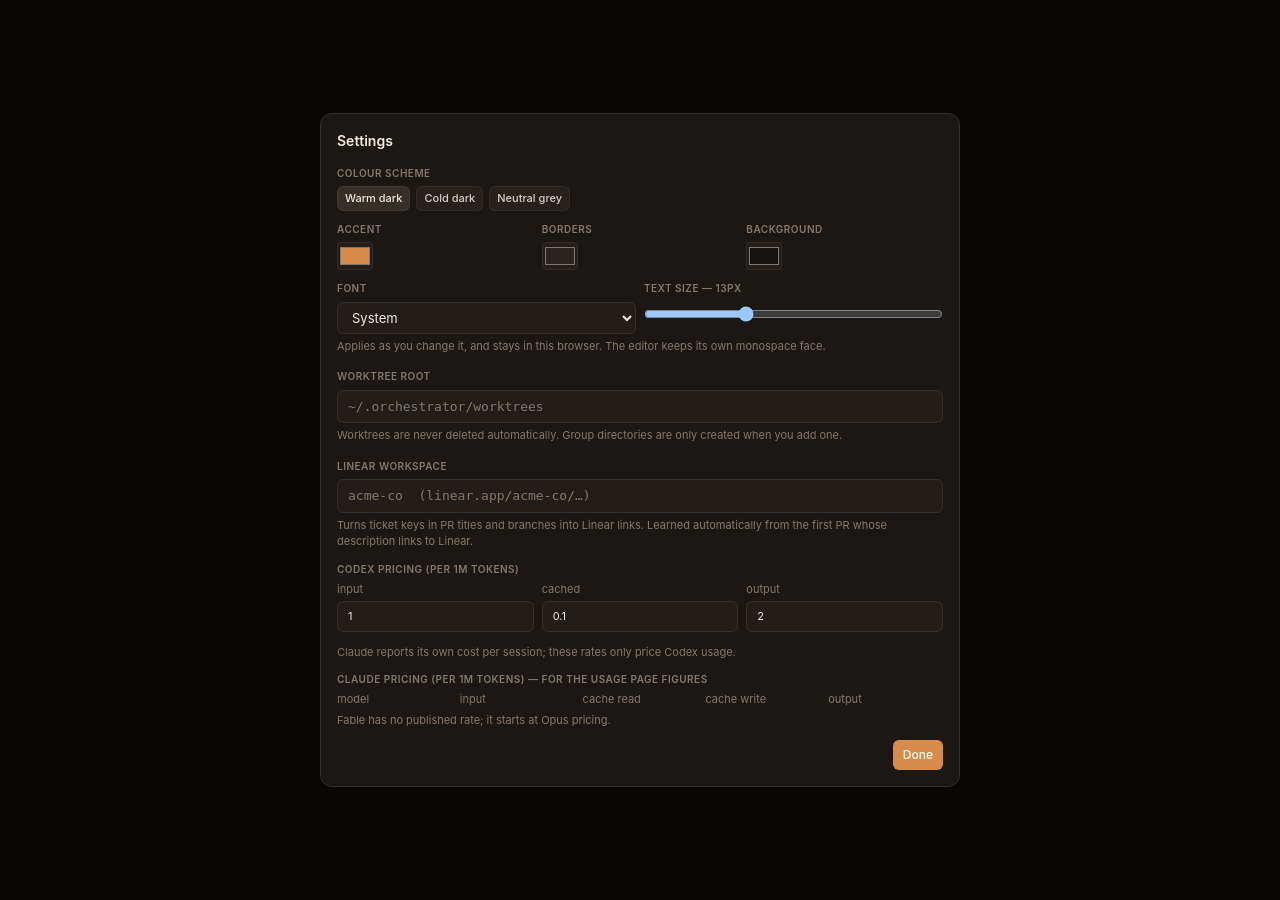
appearance settings › changes the font and the text size
The width and height of the screenshot is (1280, 900).
Expected: the element named "Colour scheme" is shown, left=337, top=186, right=570, bottom=211
Select "Monospace" in the dropdown labelled "Font": (486, 318) left=337, top=302, right=636, bottom=334
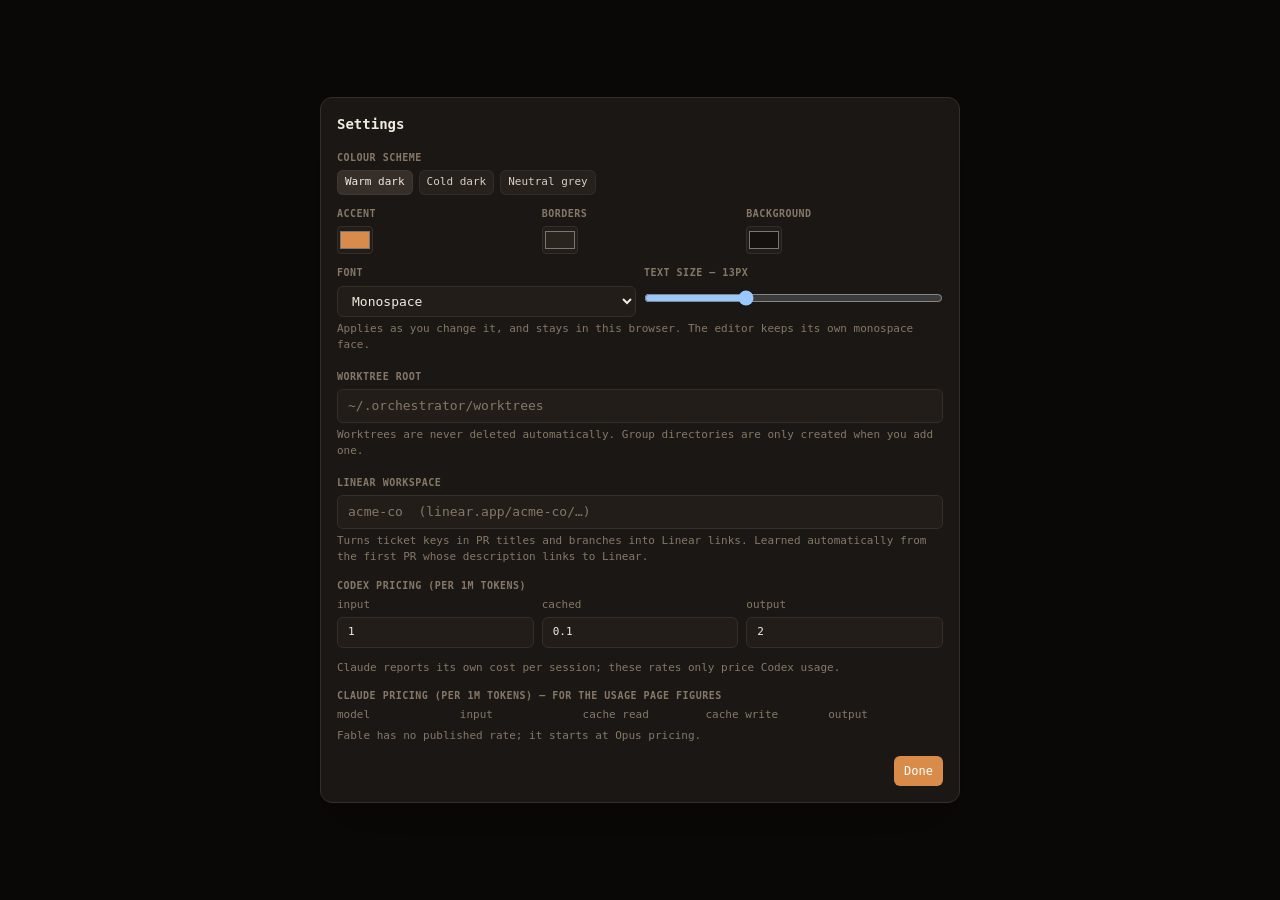
Set the slider labelled "Text size" to "16": (888, 298) left=644, top=290, right=943, bottom=306
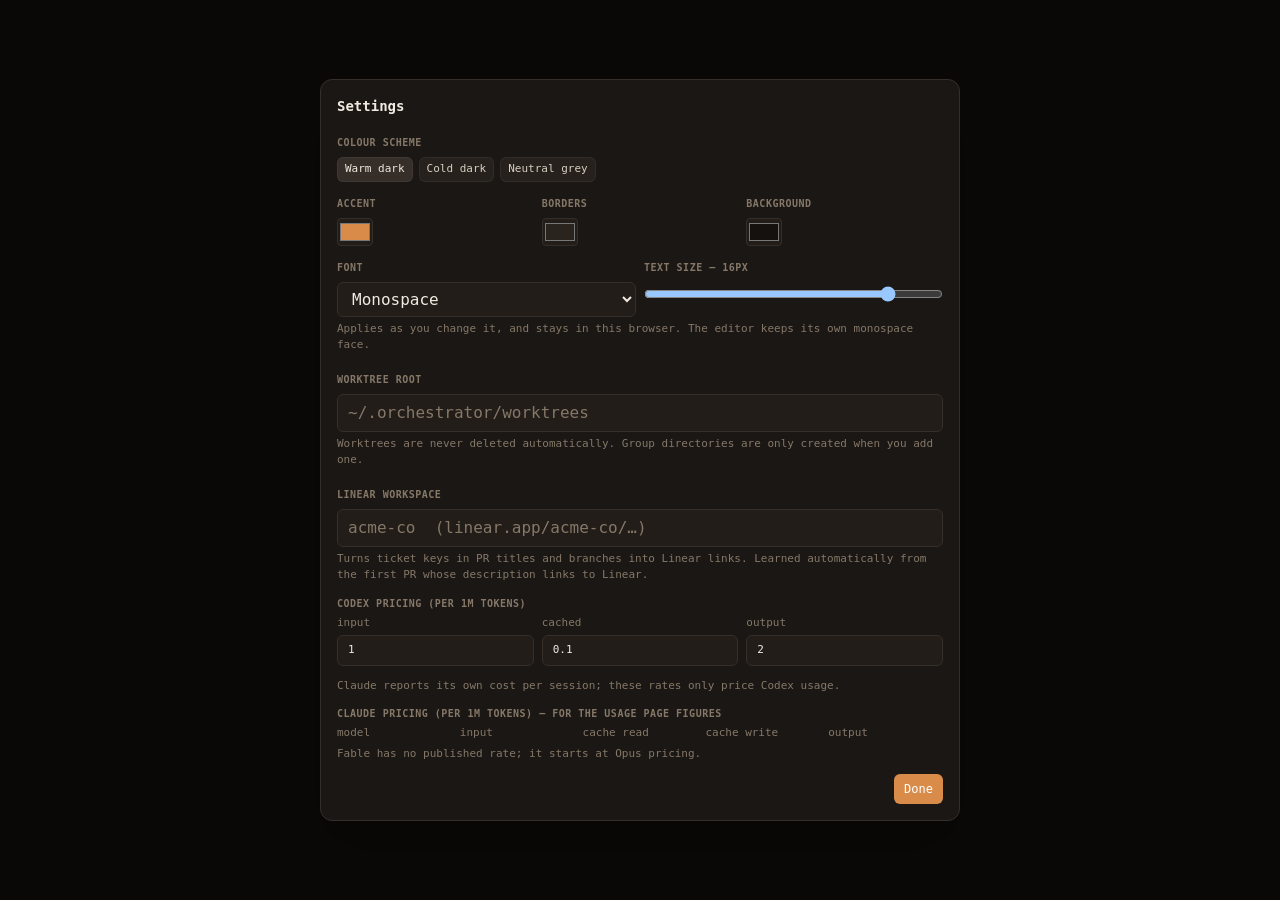
Now the text "Text size — 16px" is shown, box left=644, top=262, right=748, bottom=272
